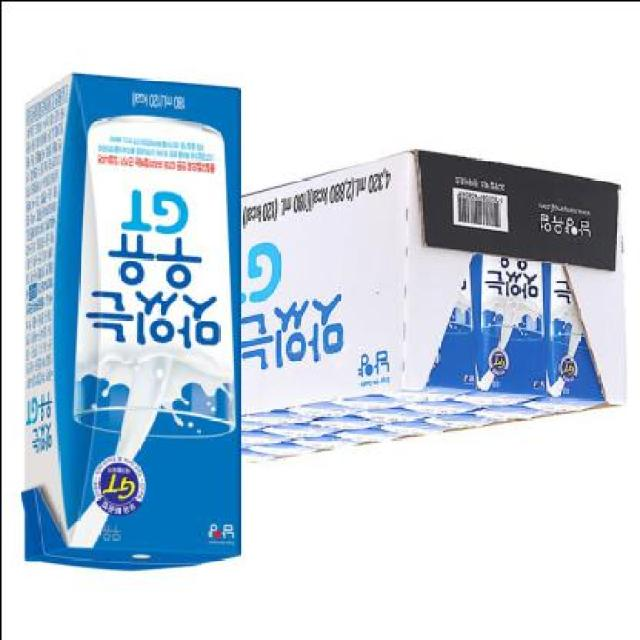tetra: (4, 61, 250, 597)
